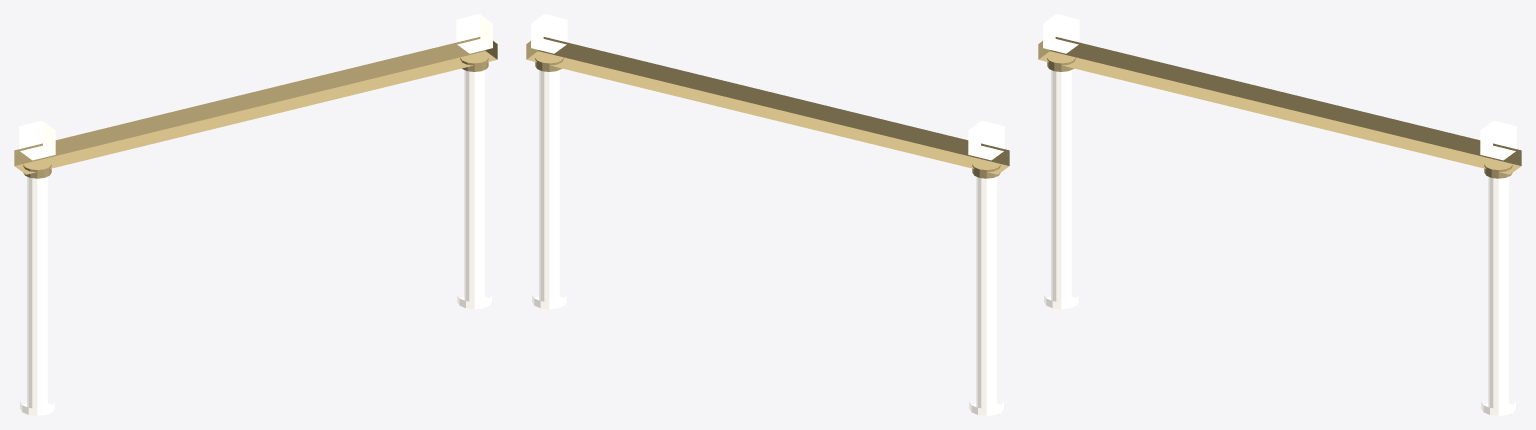
Rendered from gateway-palace.glb.
3 views of the same model, side by side, from view 1: azimuth 30°, elevation 25°; view 2: azimuth 150°, elevation 25°; view 3: azimuth 330°, elevation 25° (orthographic).
Parts seen in each view (by area): view 1: brass, marble, lights; view 2: brass, marble, lights; view 3: brass, marble, lights.
Part boxes in pixels (<box>): brass: <box>14,37,497,178</box>; marble: <box>20,70,491,415</box>; lights: <box>19,14,492,160</box>; brass: <box>526,37,1009,178</box>; marble: <box>532,70,1003,415</box>; lights: <box>531,14,1004,160</box>; brass: <box>1038,37,1521,178</box>; marble: <box>1044,70,1515,415</box>; lights: <box>1043,14,1516,160</box>.
Size of the model in its own units: 6.9 by 3.92 by 0.44.
